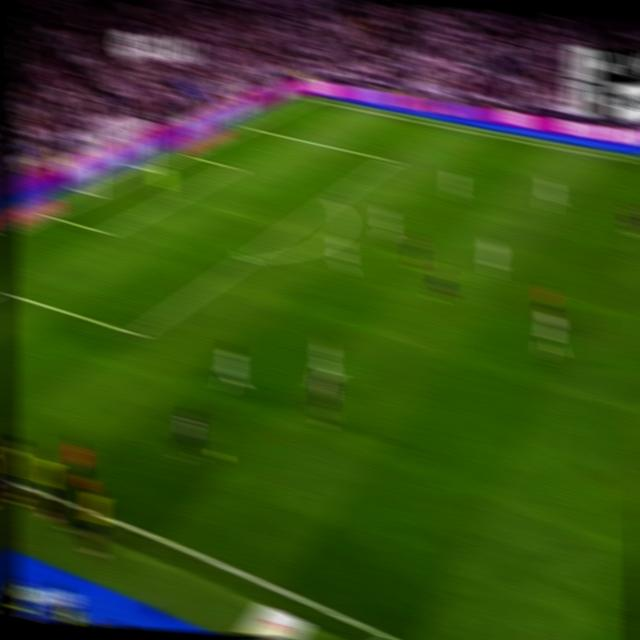bigarea_bottom_inner: (125, 319, 146, 347)
bigarea_top_inner: (381, 149, 398, 168)
bigarea_top_outter: (240, 118, 256, 134)
bottom_arc_area_intersection: (237, 248, 256, 269)
corner: (299, 91, 316, 105)
smallarea_bottom_inner: (97, 222, 115, 243)
smallarea_top_inner: (225, 159, 242, 175)
top_arc_area_intersection: (324, 189, 341, 208)
